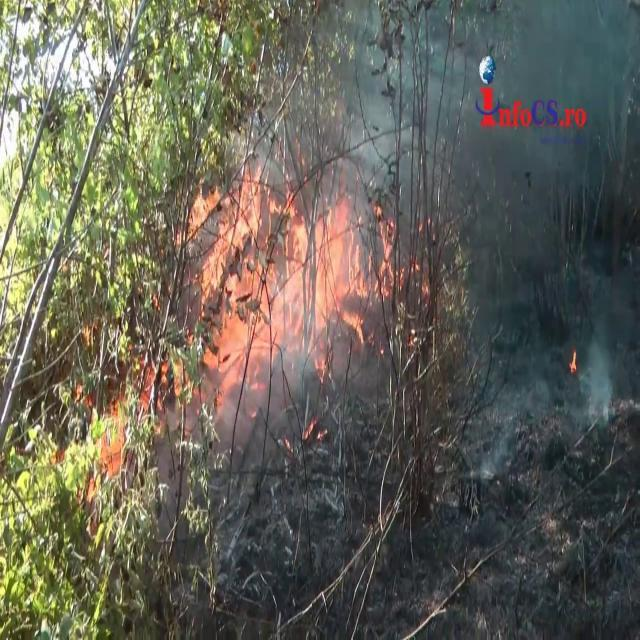Fire: (184, 150, 401, 382)
